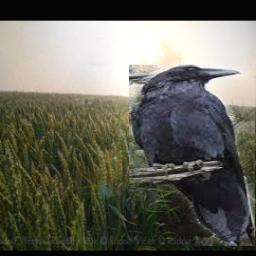Crow: (130, 65, 256, 246)
